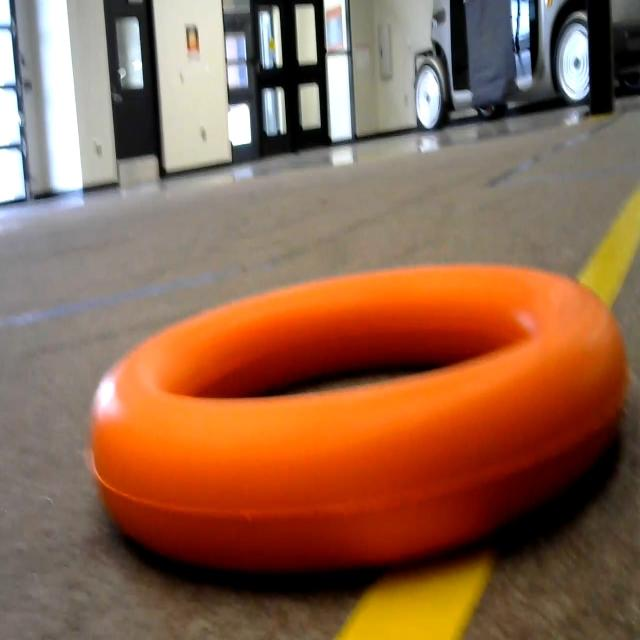note: (74, 255, 640, 560)
